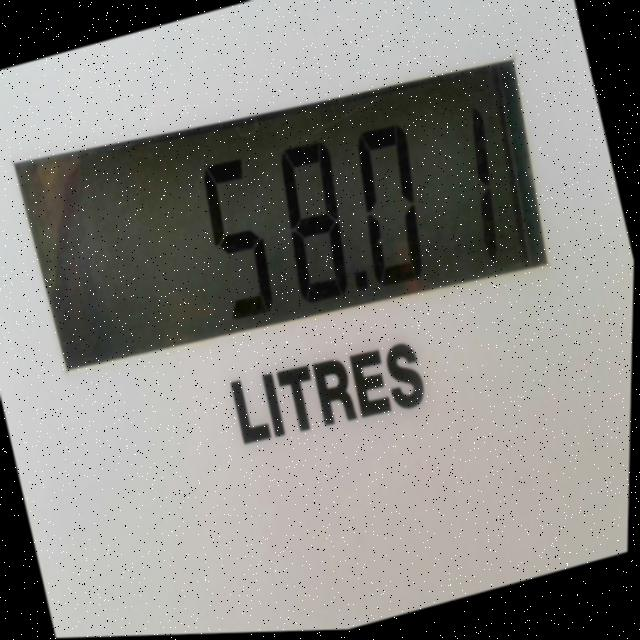.: (355, 275, 373, 301)
0: (339, 112, 447, 307)
1: (442, 98, 527, 287)
5: (193, 157, 289, 328)
8: (265, 133, 363, 320)
